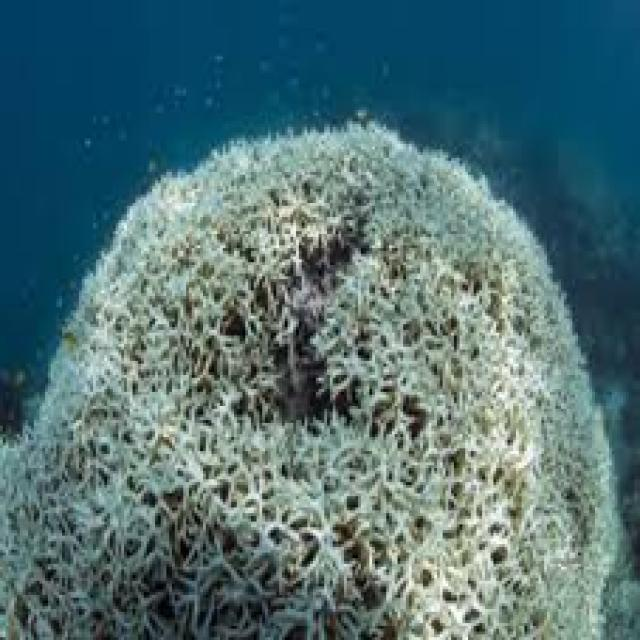Bleached: (1, 122, 616, 638)
